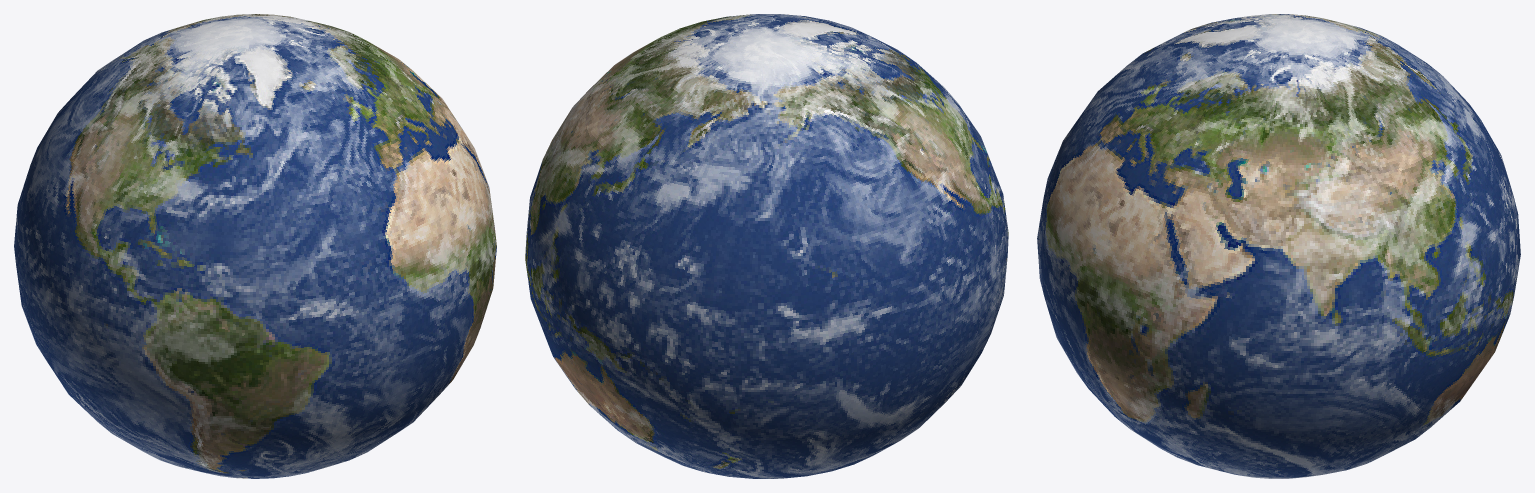
3 views of the same model, side by side, from view 1: azimuth 30°, elevation 25°; view 2: azimuth 150°, elevation 25°; view 3: azimuth 270°, elevation 25° (orthographic).
Parts seen in each view (by area): view 1: earth; view 2: earth; view 3: earth.
Boxes of the visible parts, box(x1,y1,x2,y2) form: earth: box(14, 14, 496, 478); earth: box(525, 14, 1008, 478); earth: box(1037, 14, 1520, 478).
Bounding box in the file's own units: 12.77 × 12.18 × 12.76.
1 material, 1 textured.
